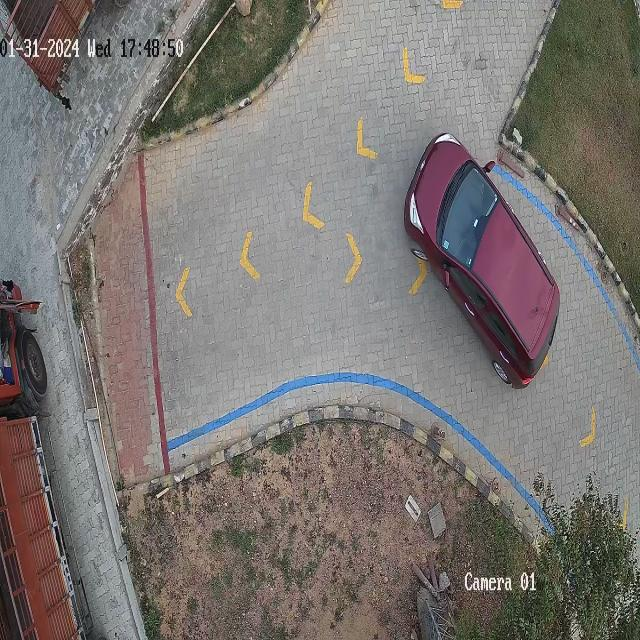car: (403, 130, 561, 392)
